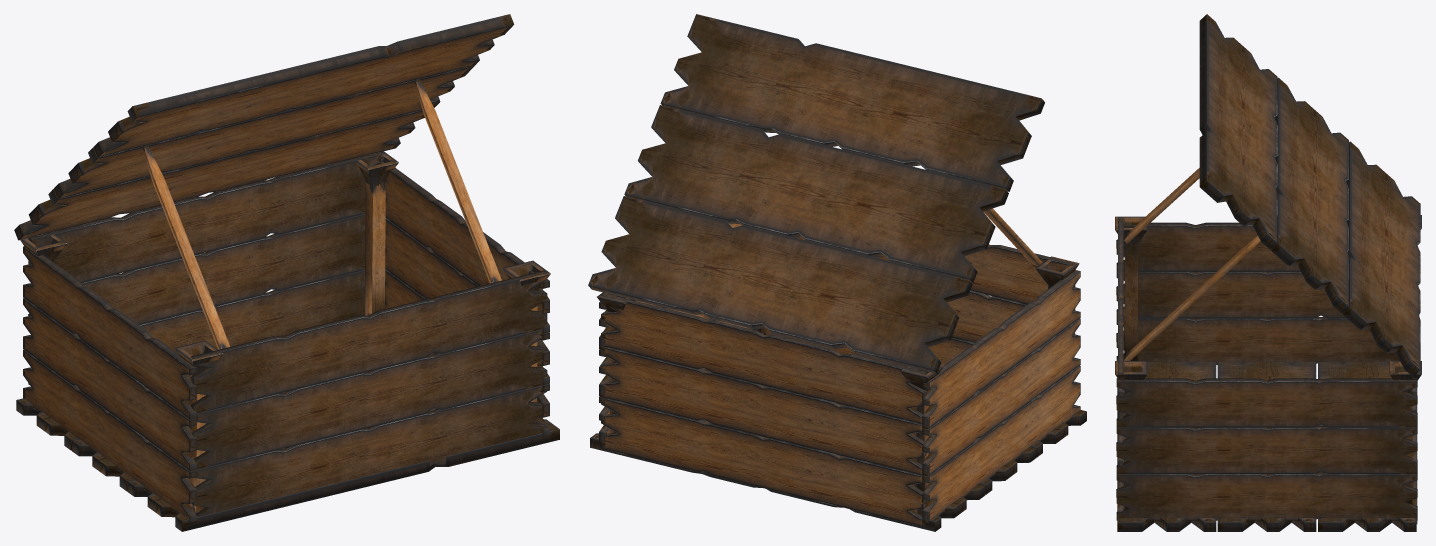
File: truhla.glb
3 renders of one model, left to right at view 1: azimuth 30°, elevation 25°; view 2: azimuth 150°, elevation 25°; view 3: azimuth 270°, elevation 25°, orthographic. The views are drawn at different scales.
Parts seen in each view (by area): view 1: Wood_Box_Mesh; view 2: Wood_Box_Mesh; view 3: Wood_Box_Mesh.
Part boxes in pixels (bbox=[...]): Wood_Box_Mesh: bbox=[14, 14, 559, 531]; Wood_Box_Mesh: bbox=[588, 14, 1086, 531]; Wood_Box_Mesh: bbox=[1115, 14, 1421, 531].
Size of the model in its own units: 8.48 by 8.35 by 6.6.
Materials: 1 (1 with a texture image).
